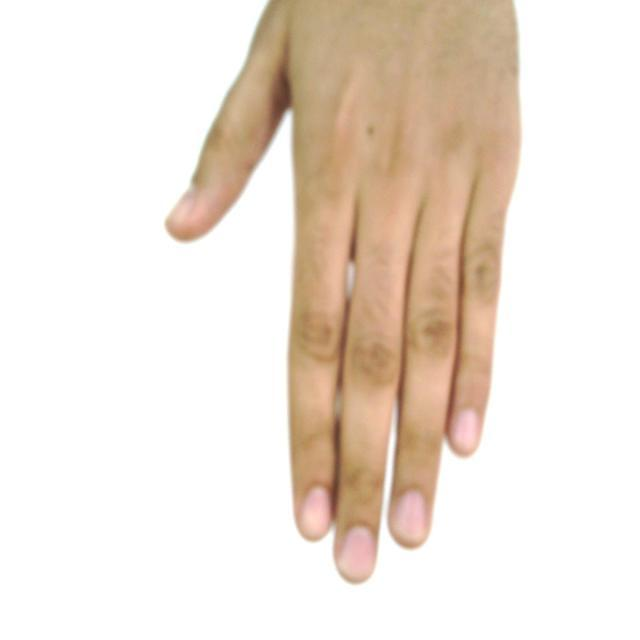Fingernail: (341, 529, 375, 581), (394, 492, 427, 542), (302, 488, 331, 539), (454, 410, 478, 451), (169, 190, 196, 221)
